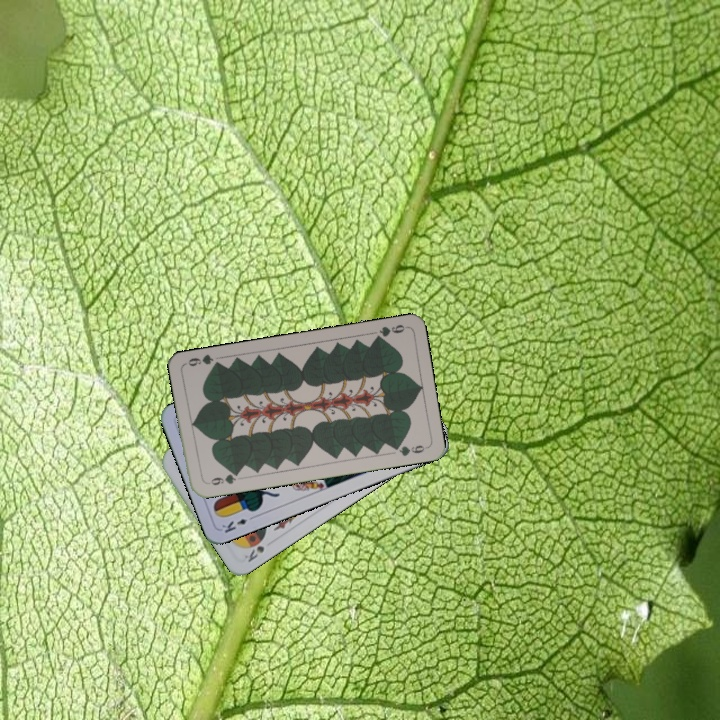EK: (217, 511, 258, 536)
G9: (370, 320, 409, 343), (202, 468, 242, 488)
SK: (240, 542, 267, 565)
